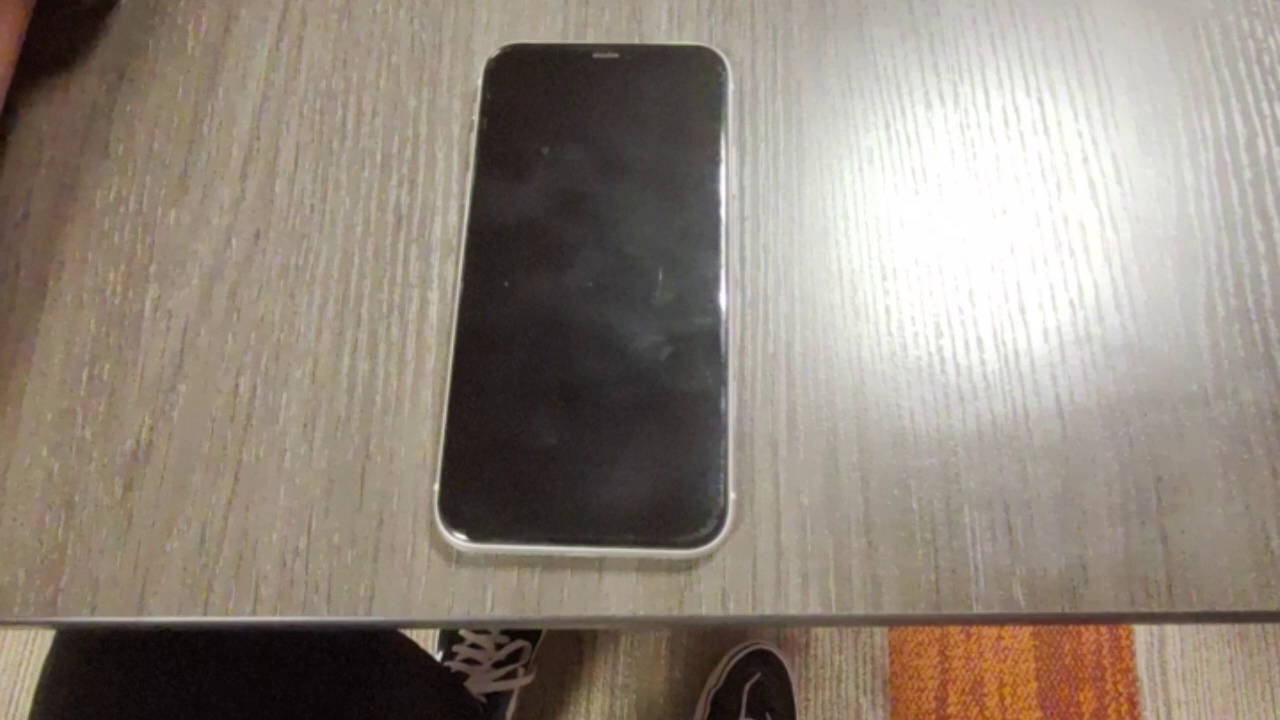celular: (432, 40, 738, 561)
